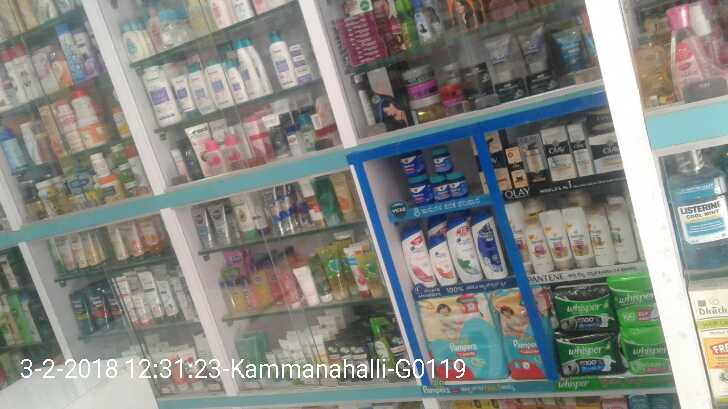beauty: (442, 213, 481, 289), (557, 202, 595, 278), (469, 210, 506, 282), (581, 202, 618, 271), (536, 208, 574, 273), (539, 122, 577, 182), (561, 121, 598, 181), (397, 225, 431, 286), (425, 236, 455, 289), (524, 224, 553, 277)
pharmacy: (414, 286, 503, 387), (484, 289, 548, 379), (397, 150, 471, 203), (616, 327, 671, 381), (556, 281, 613, 329), (554, 331, 616, 375)
